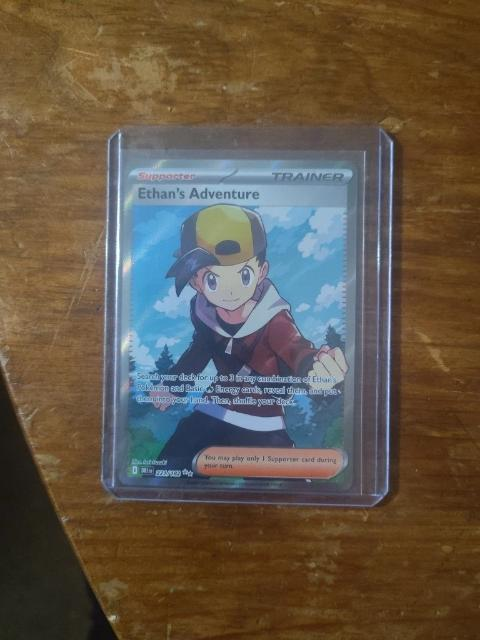Card: (116, 157, 358, 493)
Name: (133, 184, 267, 205)
